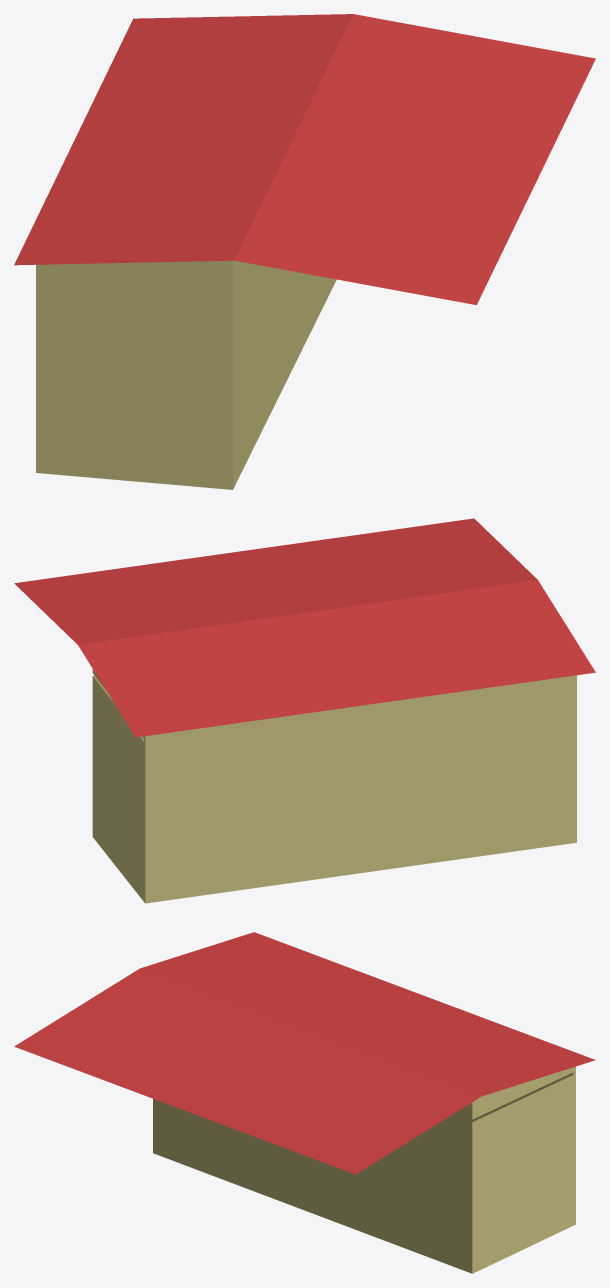
The picture shows the model from 3 angles, top to bottom: view 1: azimuth 30°, elevation 25°; view 2: azimuth 150°, elevation 25°; view 3: azimuth 270°, elevation 25°; orthographic projection. The views are drawn at different scales.
Bounding box in the file's own units: 20.22 × 20.51 × 7.08.
